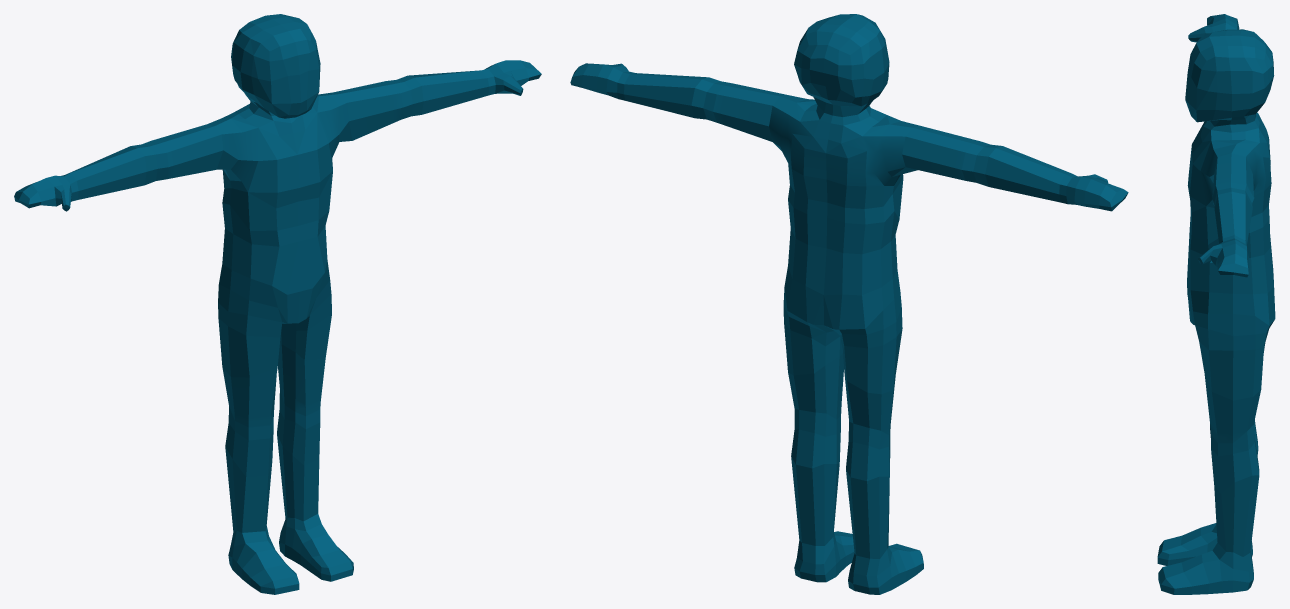
3 views of the same model, side by side, from view 1: azimuth 30°, elevation 25°; view 2: azimuth 150°, elevation 25°; view 3: azimuth 270°, elevation 25° (orthographic). The views are drawn at different scales.
Visible parts, largest first — view 1: NautilusBoy Nautilus; view 2: NautilusBoy Nautilus; view 3: NautilusBoy Nautilus.
Boxes of the visible parts, box(x1,y1,x2,y2) form: NautilusBoy Nautilus: box(14, 14, 541, 594); NautilusBoy Nautilus: box(570, 14, 1128, 594); NautilusBoy Nautilus: box(1157, 14, 1275, 594).
Bounding box in the file's own units: 1.06 × 1.04 × 0.2077.
